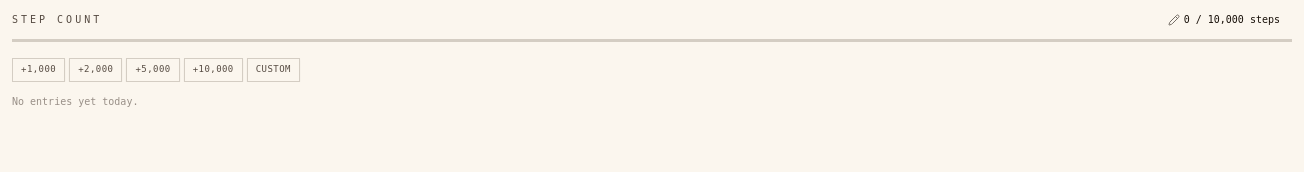
StepTracker component › shows custom input when Custom button is clicked
Click the button "Custom" at (273, 70), box [247, 58, 300, 82]
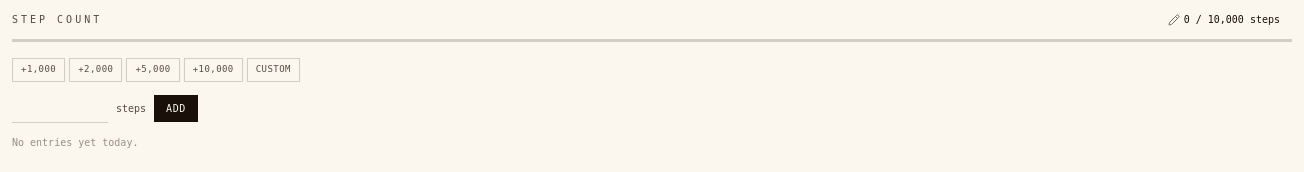
Check: the number field named "Custom step count" is shown, box [12, 94, 108, 122]
Check: the button "Add" is shown, box [154, 94, 198, 122]
